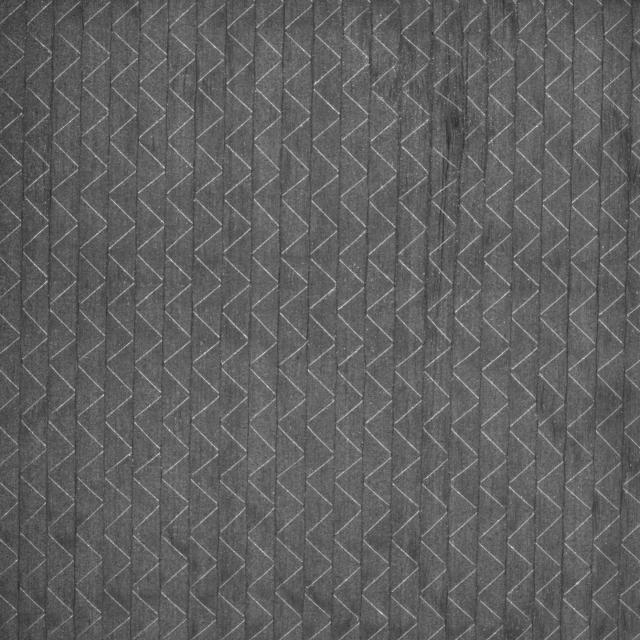carbon-fibre-defect: (417, 93, 468, 154)
